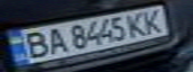4: (84, 18, 103, 47), (96, 16, 115, 44)
5: (109, 15, 130, 43)
8: (66, 21, 87, 50)
A: (42, 25, 69, 55)
B: (15, 29, 54, 60)
K: (139, 7, 169, 35), (124, 10, 151, 38)
